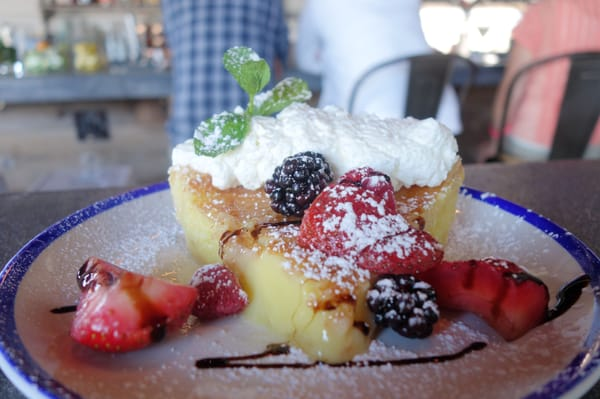curry: (29, 97, 600, 398)
pasta: (345, 50, 465, 129)
sushi: (167, 49, 464, 259)
